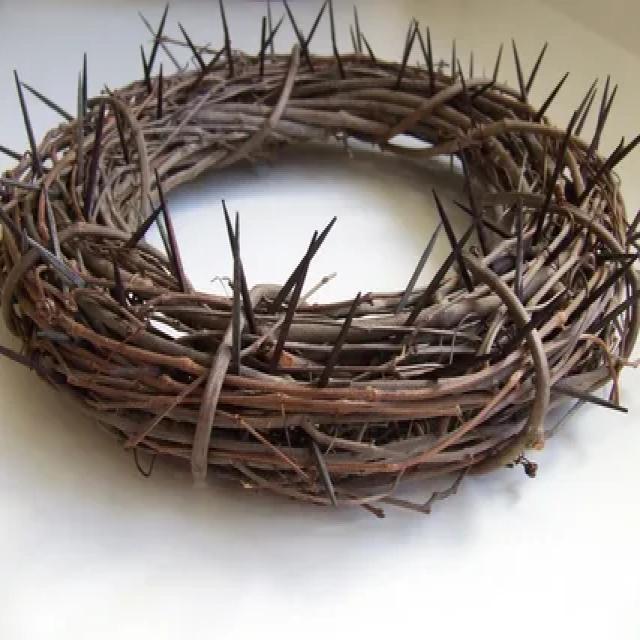crown: (0, 0, 640, 527)
